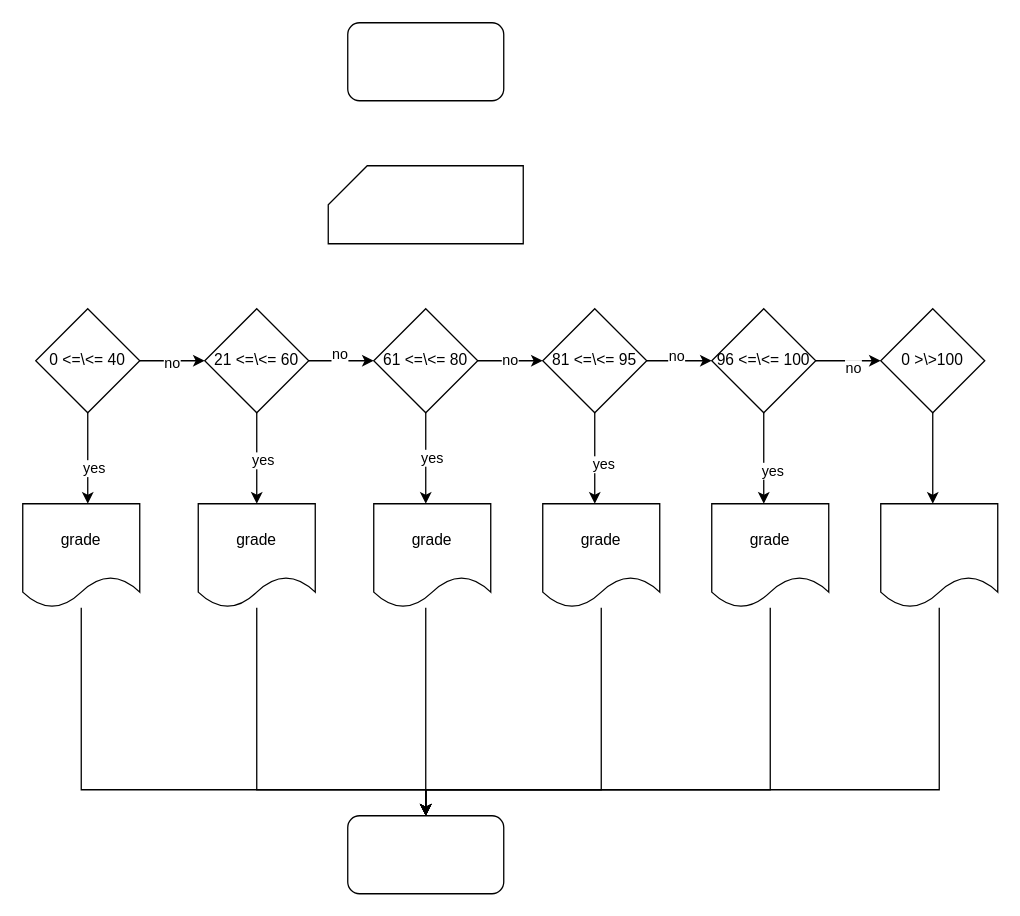
Image size: 1020x916. Some labels were removed from this diagram. Each missing label, with the centre of its shape:
"Invalid": (938,555)
"What's you're grade? ": (425,204)
End: (425,854)
Start: (425,61)
